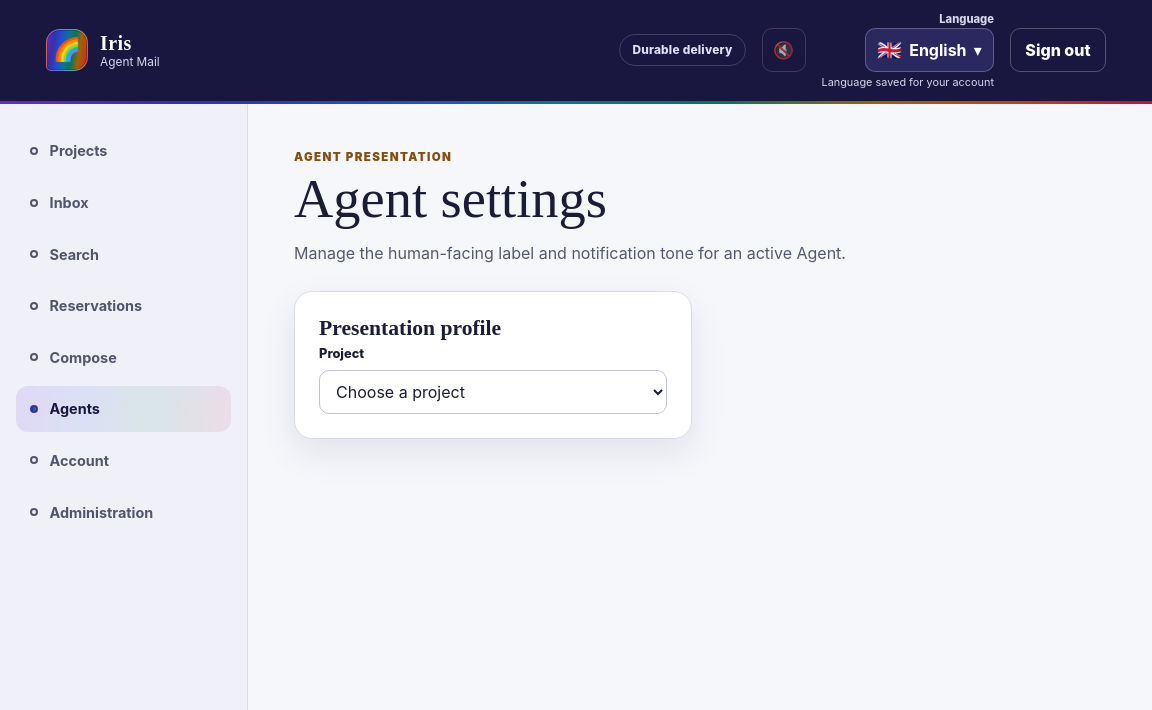
Test: Iris landing shell › updates an Agent label and previews one of twelve tones without arming global audio
The width and height of the screenshot is (1152, 710).
Expected: the text "Language saved for your account" is shown, x1=822 y1=75 x2=994 y2=89
Expected: the heading "Agent settings" is shown, x1=294 y1=169 x2=607 y2=229
Select "/mateusz-klatt/mcp_agent_mail" in the dropdown labelled "Project" at (493, 392), box x1=319 y1=370 x2=667 y2=414
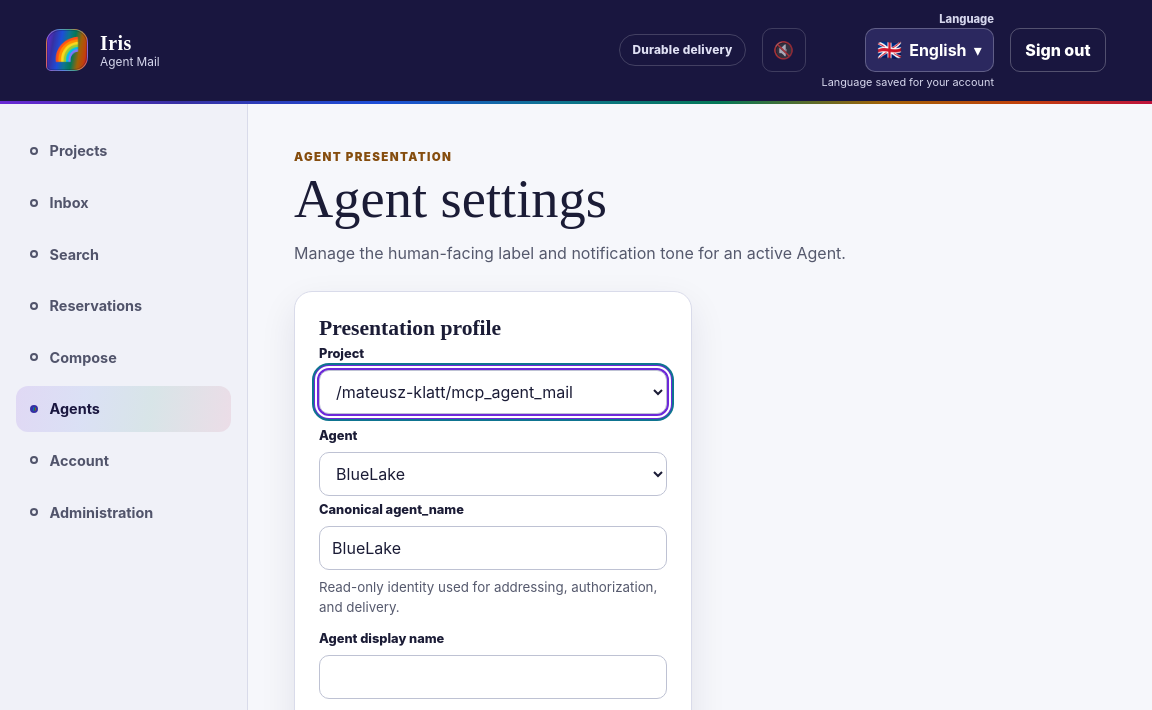
Select "Release operator (GreenDog)" in the dropdown labelled "Agent" at (493, 474), box x1=319 y1=452 x2=667 y2=496
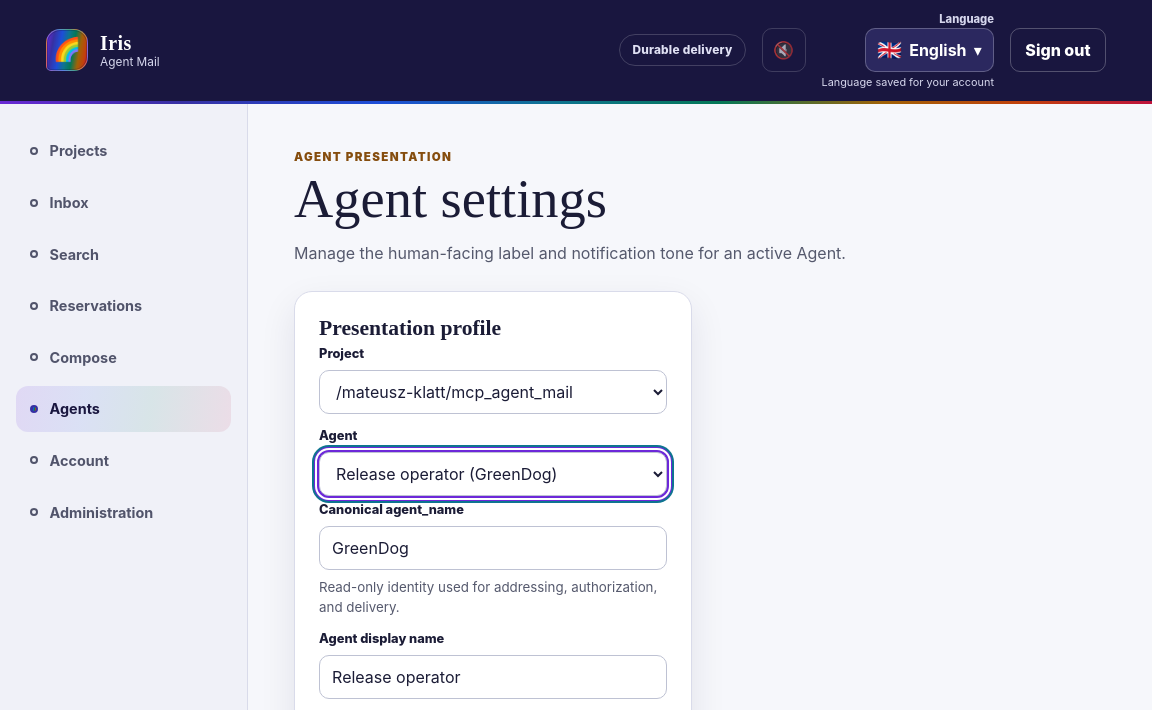
Now the field labelled "Canonical agent_name" holds "GreenDog", box x1=319 y1=526 x2=667 y2=570
Replace the text in the field labelled "Agent display name" with "Release lead" at (493, 677), box x1=319 y1=655 x2=667 y2=699
(page scrolled)
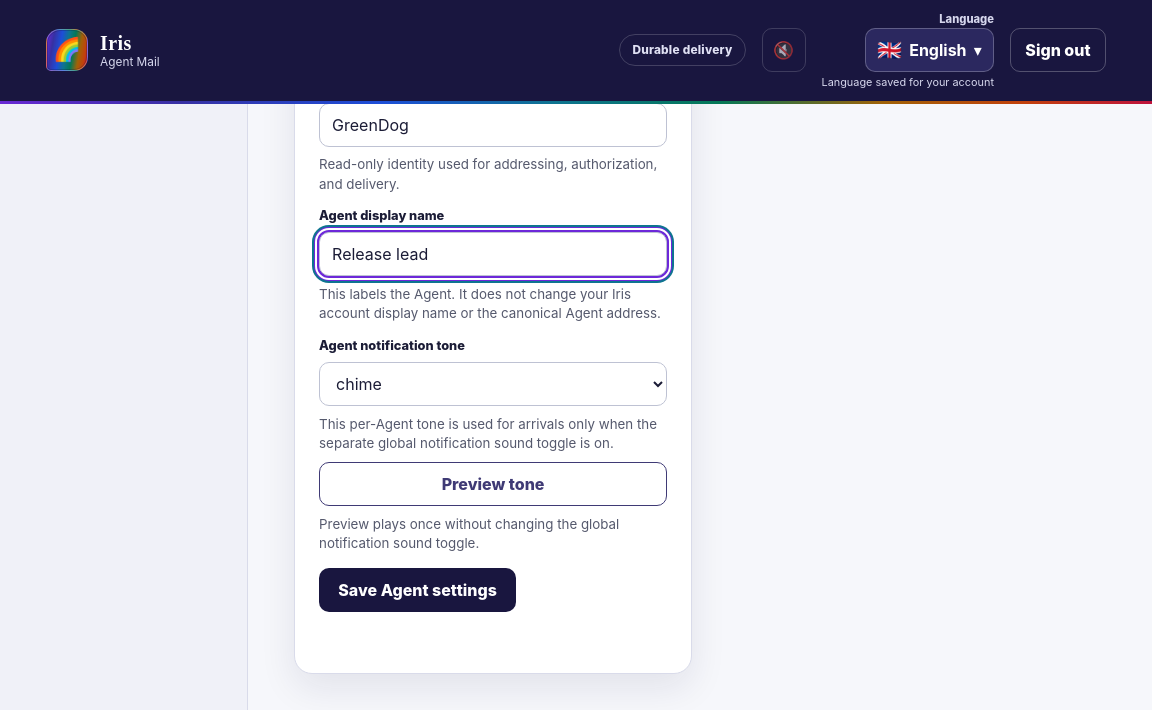
Select "bell" in the dropdown labelled "Agent notification tone" at (493, 384), box x1=319 y1=362 x2=667 y2=406
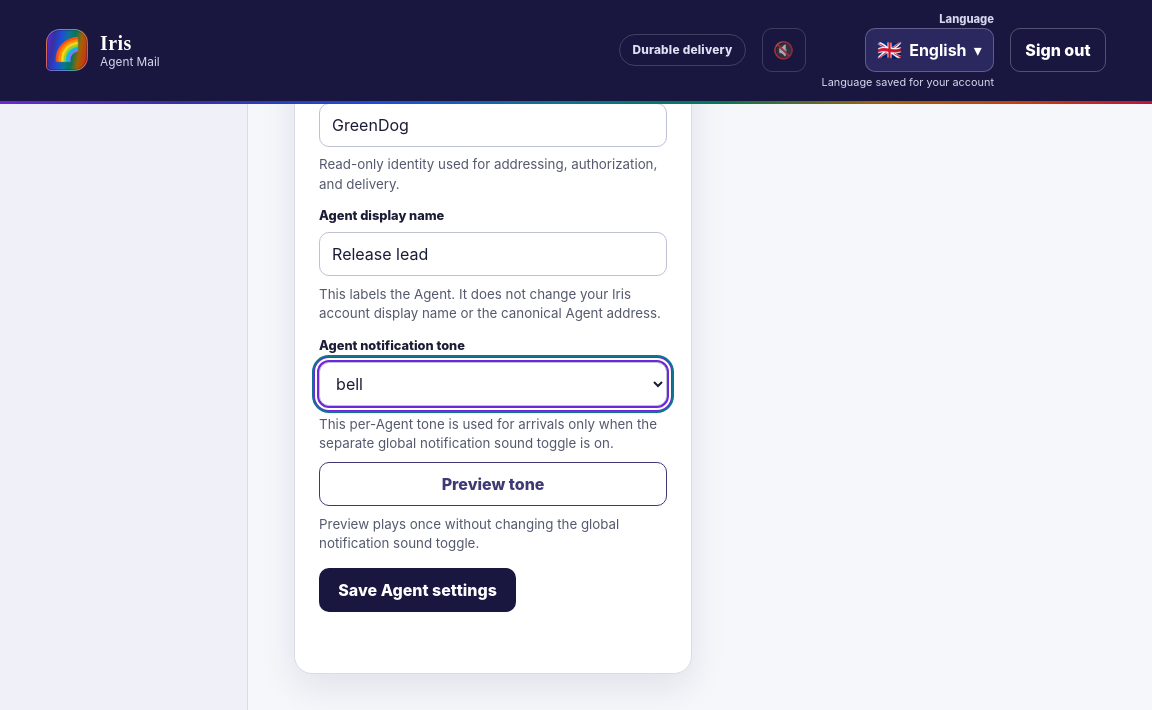
Click the button "Preview tone" at (493, 484), box x1=319 y1=462 x2=667 y2=506
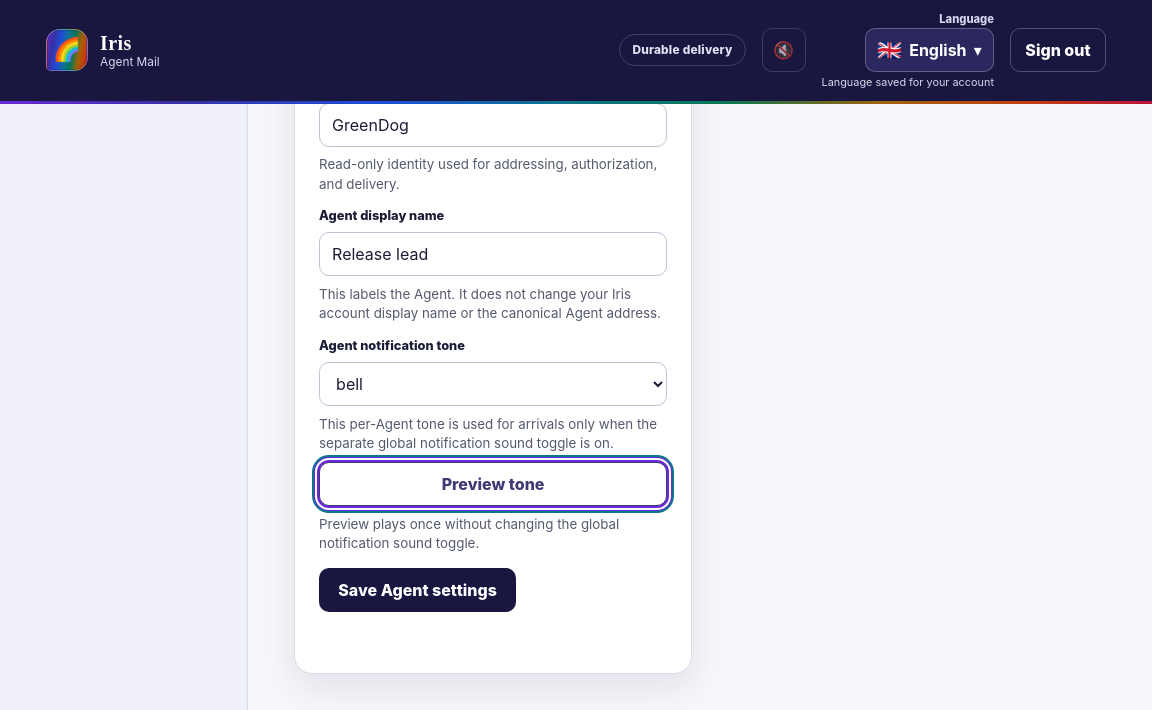
Click the button "Save Agent settings" at (418, 590), box x1=319 y1=568 x2=516 y2=612
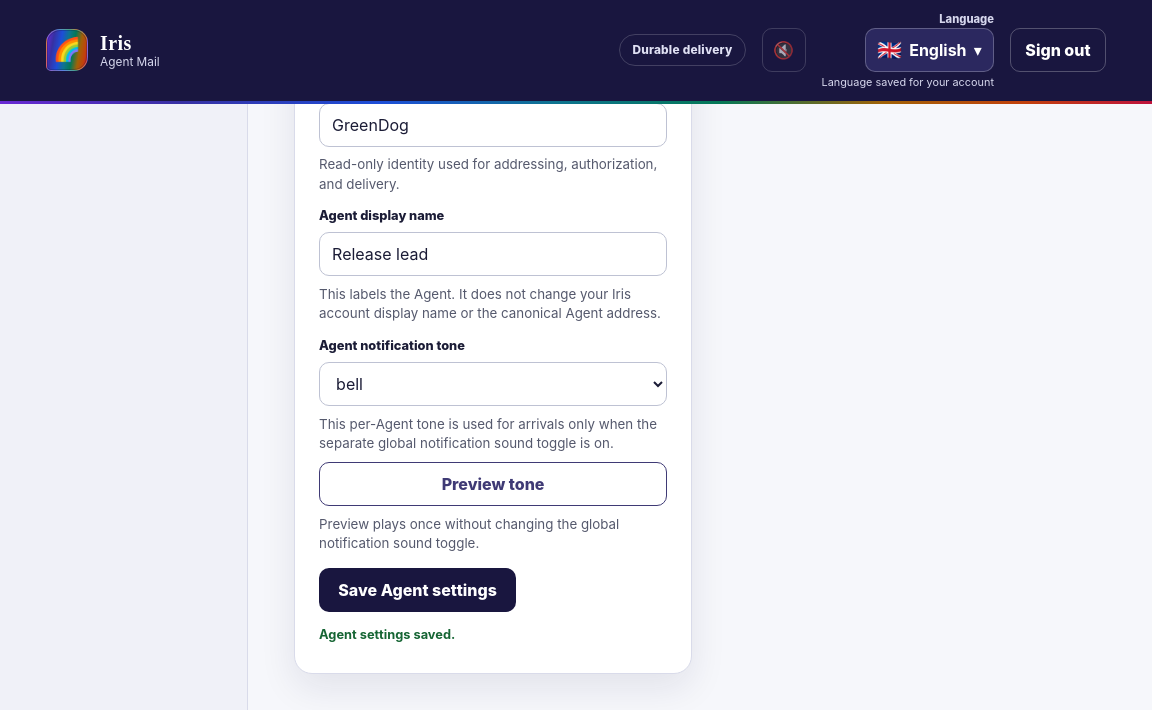
Now the field labelled "Canonical agent_name" holds "GreenDog", box x1=319 y1=103 x2=667 y2=147
Now the text "Agent settings saved." is shown, box x1=319 y1=627 x2=455 y2=642
